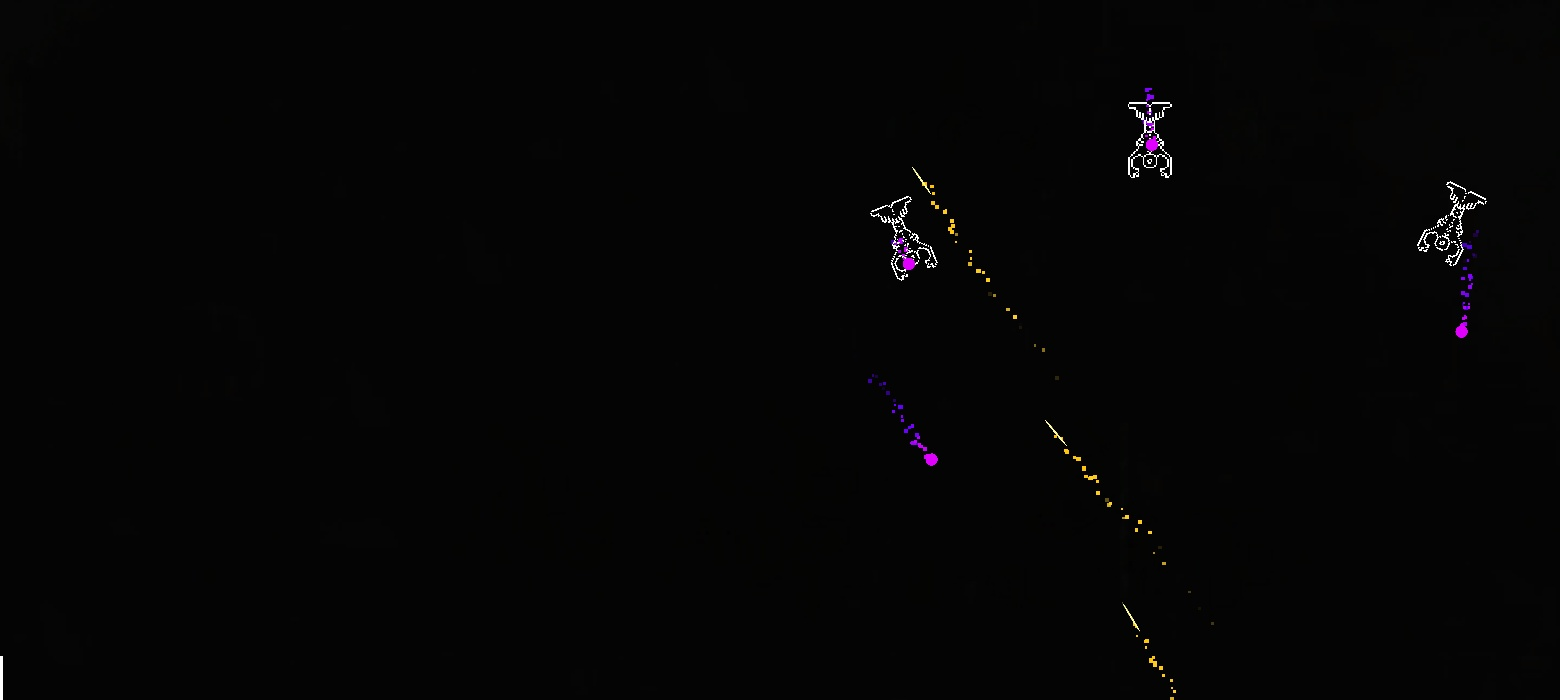enemy: (1417, 181, 1488, 267), (869, 196, 938, 281), (1127, 101, 1173, 179)
